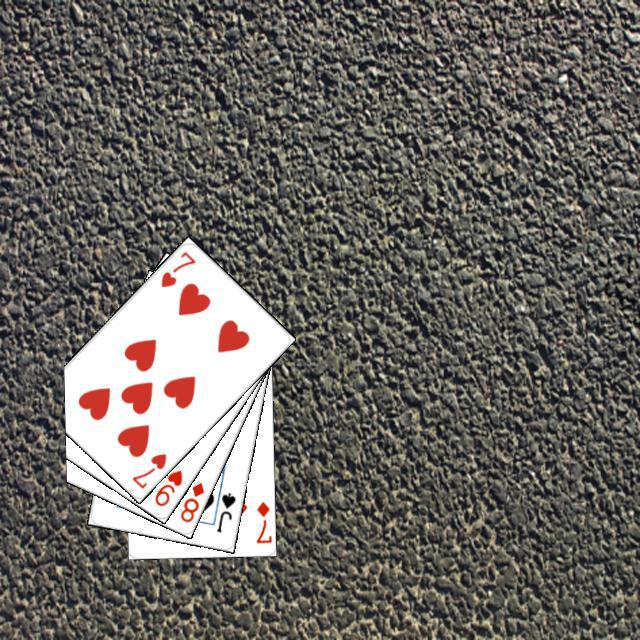7d: (251, 497, 272, 545)
7h: (127, 448, 168, 491), (156, 246, 197, 289)
8d: (175, 477, 206, 524)
9h: (149, 465, 184, 508)
Js: (212, 488, 237, 534)
